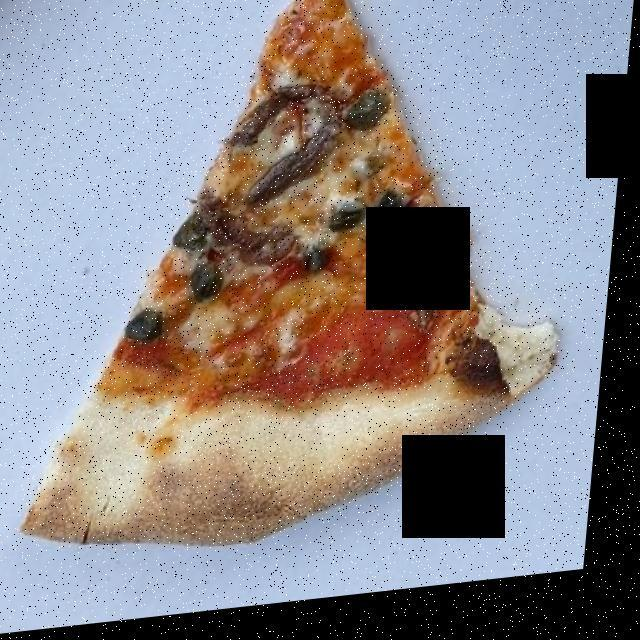anchovies: (206, 88, 351, 276)
capers: (132, 88, 450, 353)
pizza: (46, 0, 553, 550)
